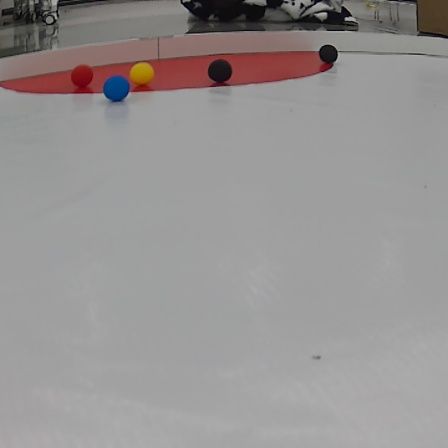black: (211, 58, 234, 83), (316, 43, 341, 66)
blue: (103, 75, 132, 102)
red: (70, 63, 94, 87)
red_base: (1, 48, 336, 89)
